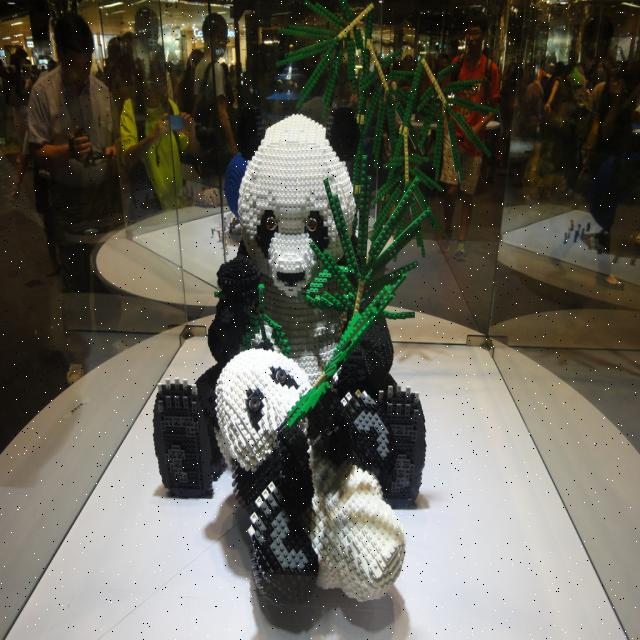panda: (153, 112, 426, 499), (198, 332, 406, 603)
